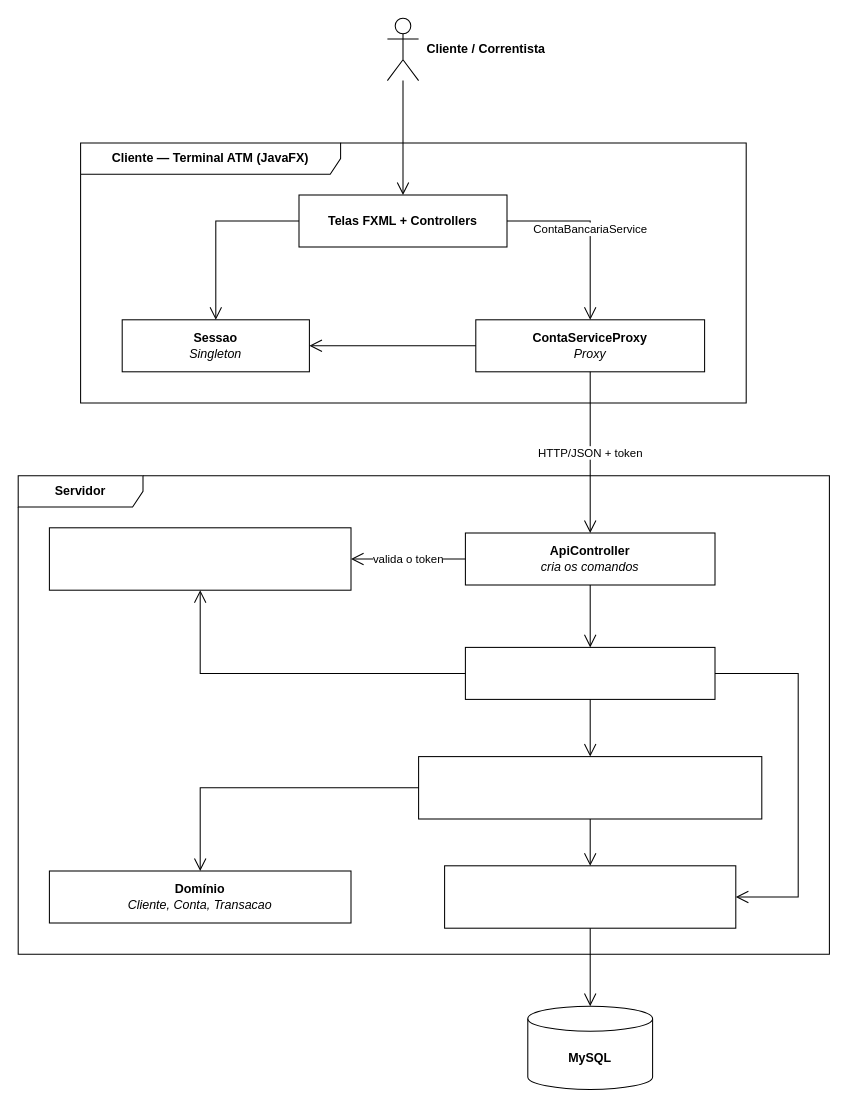
The diagram is 848 pixels wide and 1108 high, and some of its shapes have lost their labels. Here are the shapes that lost their labels. From the top down, the centre of each, then its label:
At [199,558]: "SessaoService, ConexaoBD, Configuracao Singletons".
At [589,672]: "ContaService invocador do Command".
At [590,787]: "SaqueCommand, DepositoCommand, SaldoCommand, ExtratoCommand Command".
At [590,896]: "ClienteDAO, ContaDAO, TransacaoDAO, OperacaoLogDAO".
